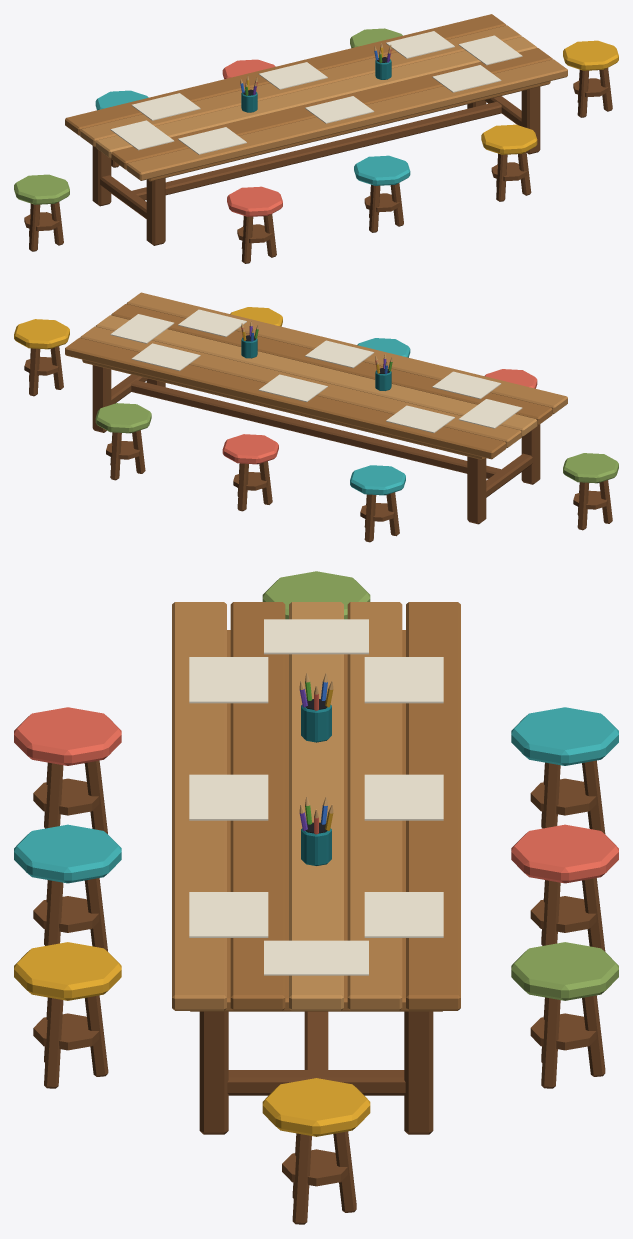
The model's file is sketch_table.glb.
The picture shows the model from 3 angles, top to bottom: view 1: azimuth 30°, elevation 25°; view 2: azimuth 150°, elevation 25°; view 3: azimuth 270°, elevation 25°; orthographic projection. The views are drawn at different scales.
Parts seen in each view (by area): view 1: sketch_table; view 2: sketch_table; view 3: sketch_table.
Boxes of the visible parts, x1=… form: sketch_table: x1=14, y1=14, x2=618, y2=263; sketch_table: x1=14, y1=292, x2=618, y2=542; sketch_table: x1=14, y1=571, x2=618, y2=1224.
Bounding box in the file's own units: 4.47 × 0.8195 × 2.07.
